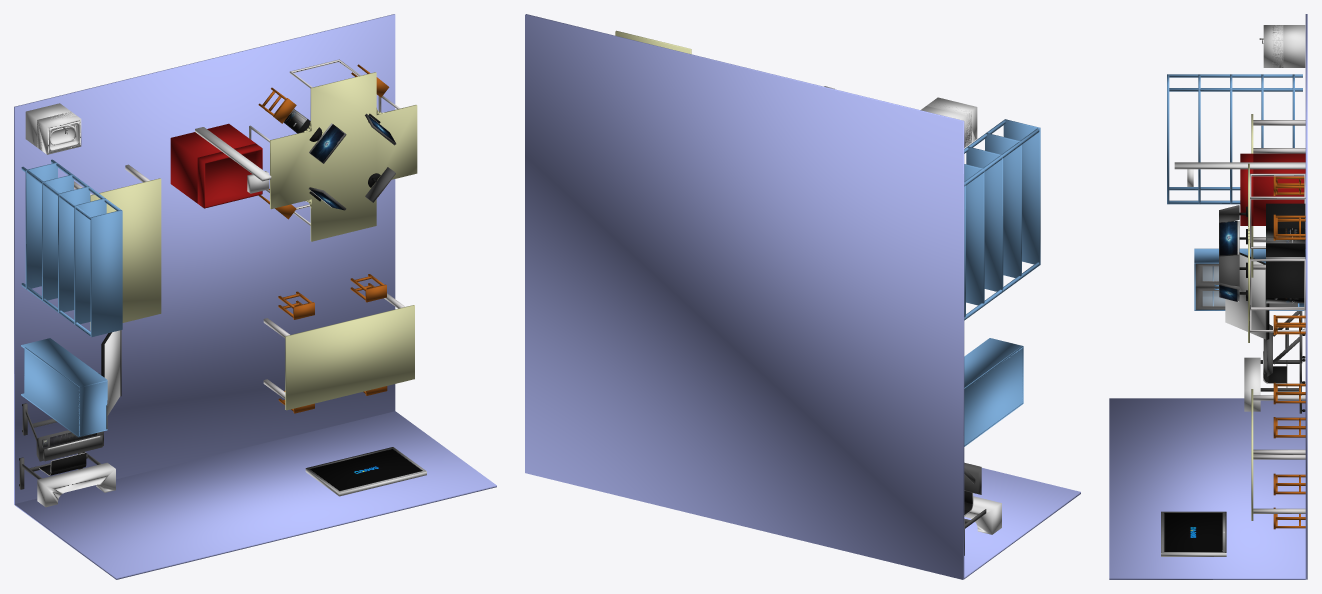
3 renders of one model, left to right at view 1: azimuth 30°, elevation 25°; view 2: azimuth 150°, elevation 25°; view 3: azimuth 270°, elevation 25°, orthographic. The views are drawn at different scales.
Visible parts, largest first — view 1: Box117, Box131, Box001, Box006, Box080, Box054, Box132, Box110, Box069, Box113, Box133, Box050 (+11 smaller); view 2: Box117, Box131, Box069, Box052, Box054, Box053, Box051, Box071, Box133, Box108; view 3: Box131, Box132, Box113, Box077, Box133, Box117, Box091, Box115, Box092, Box108, Box086, Box087 (+35 smaller).
Boxes of the visible parts, box(x1,y1,x2,y2) form: Box117: box(14, 14, 395, 505); Box131: box(15, 411, 496, 579); Box001: box(270, 72, 417, 241); Box006: box(285, 305, 414, 410); Box080: box(90, 178, 161, 329); Box054: box(90, 210, 122, 336); Box132: box(305, 447, 426, 496); Box110: box(197, 143, 262, 208); Box069: box(24, 347, 79, 435); Box113: box(170, 123, 255, 203); Box133: box(25, 103, 81, 154); Box050: box(25, 162, 57, 289); Box117: box(525, 14, 964, 579); Box131: box(964, 468, 1080, 578); Box069: box(964, 345, 1023, 445); Box052: box(966, 146, 1003, 292); Box054: box(1003, 119, 1040, 265); Box053: box(985, 133, 1021, 277); Box051: box(964, 164, 984, 305); Box071: box(964, 338, 1023, 387); Box133: box(920, 97, 977, 147); Box108: box(964, 496, 1001, 534); Box131: box(1109, 398, 1305, 579); Box132: box(1161, 511, 1226, 556); Box113: box(1253, 153, 1305, 225); Box077: box(1225, 252, 1269, 339); Box133: box(1259, 25, 1305, 67); Box117: box(1305, 14, 1307, 579); Box091: box(1266, 261, 1304, 303); Box115: box(1174, 162, 1305, 169); Box092: box(1266, 228, 1305, 256); Box108: box(1244, 357, 1260, 411); Box086: box(1266, 203, 1305, 228); Box087: box(1219, 221, 1239, 256).
Bounding box in the file's own units: 65.2 × 65.04 × 30.3.
